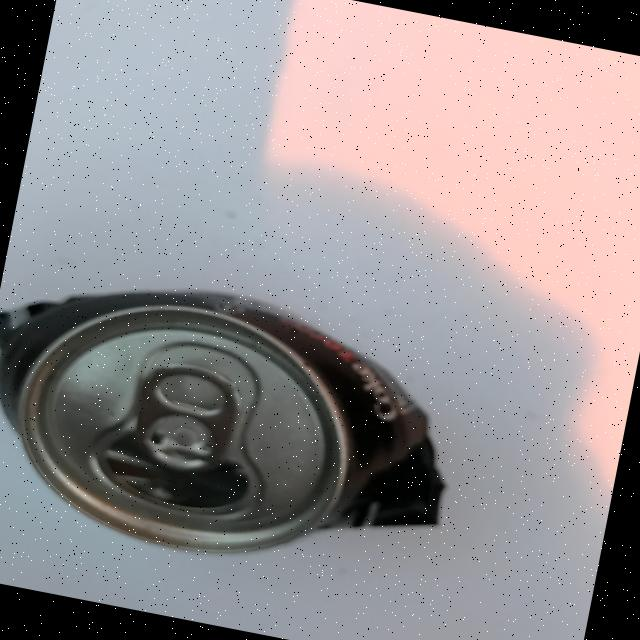metal: (0, 249, 476, 598)
